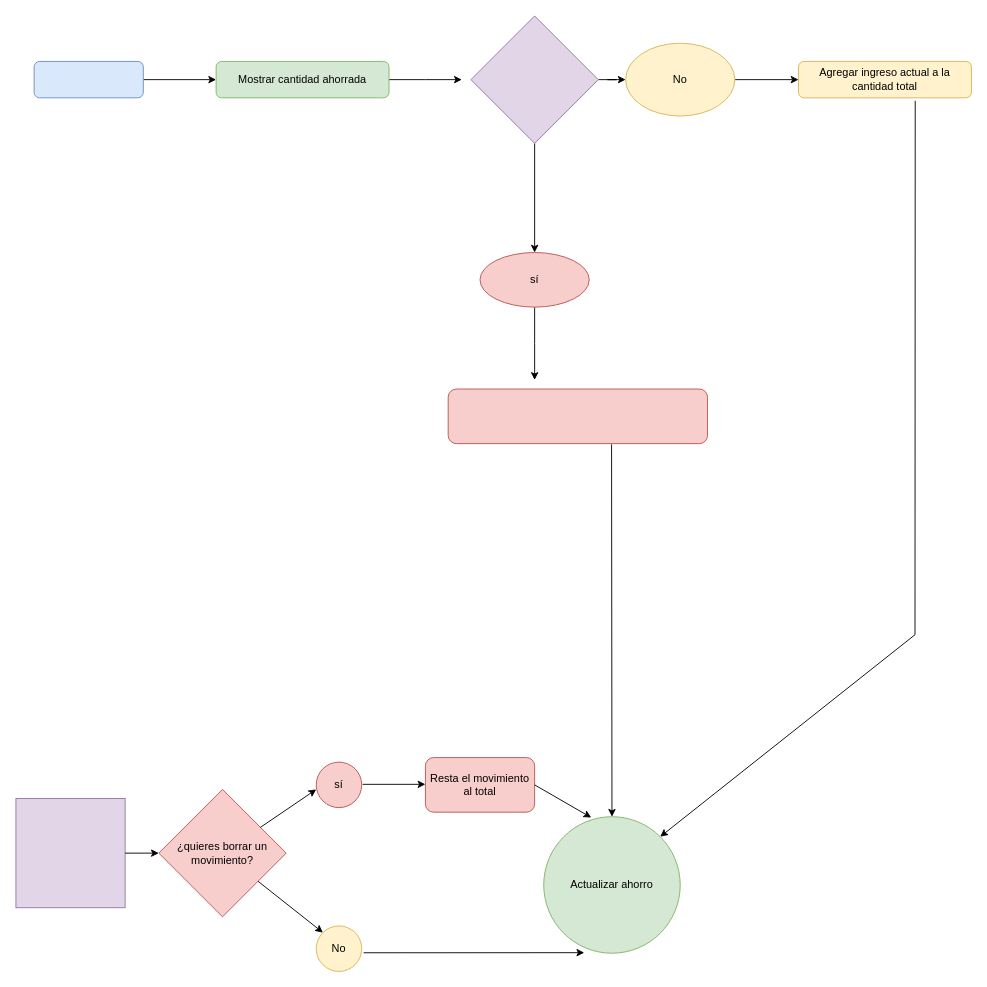
The diagram is 987 pixels wide and 987 high, and some of its shapes have lost their labels. Here are the shapes that lost their labels. From the top down, the centre of each, then its label:
At point 88,79: "Tu ahorro".
At point 534,79: "¿es un gasto?".
At point 577,416: "Restar gasto actual a la cantidad total".
At point 70,853: "Lista de movientos".
